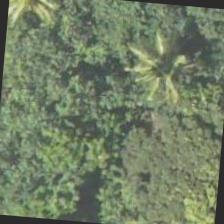Kelapa_Sawit: (114, 24, 212, 122), (6, 0, 76, 46)
